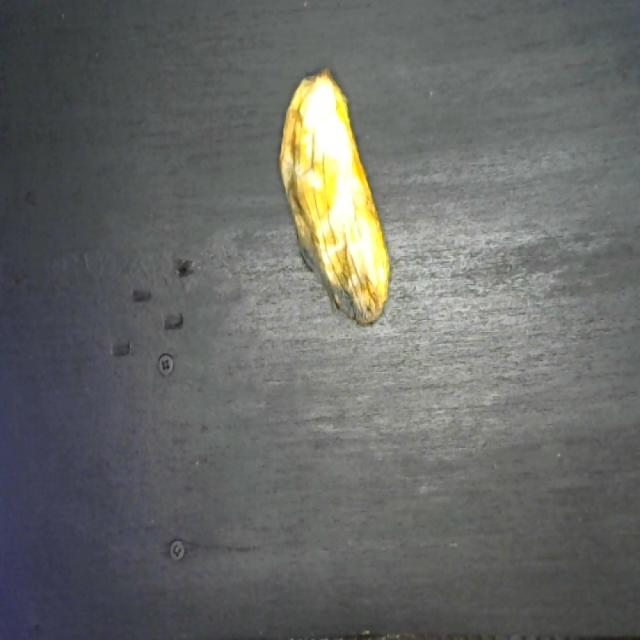biodegradable: (280, 66, 396, 336)
